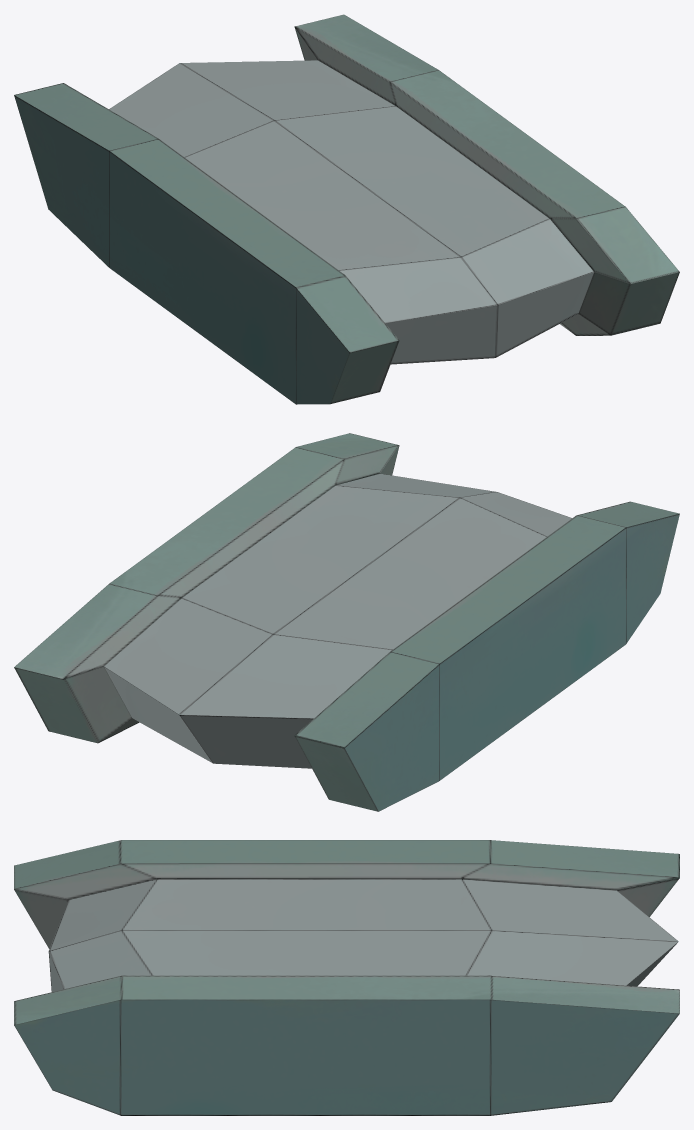
Rendered from ExportedBlenderFBXFile.fbx.
3 renders of one model, top to bottom at view 1: azimuth 30°, elevation 25°; view 2: azimuth 150°, elevation 25°; view 3: azimuth 270°, elevation 25°, orthographic.
Parts seen in each view (by area): view 1: Cube; view 2: Cube; view 3: Cube.
Part boxes in pixels (x1,y1,x2,y2): Cube: (14,14,679,404); Cube: (14,433,679,811); Cube: (14,840,679,1115).
Size of the model in its own units: 10.7 by 3.62 by 18.85.
